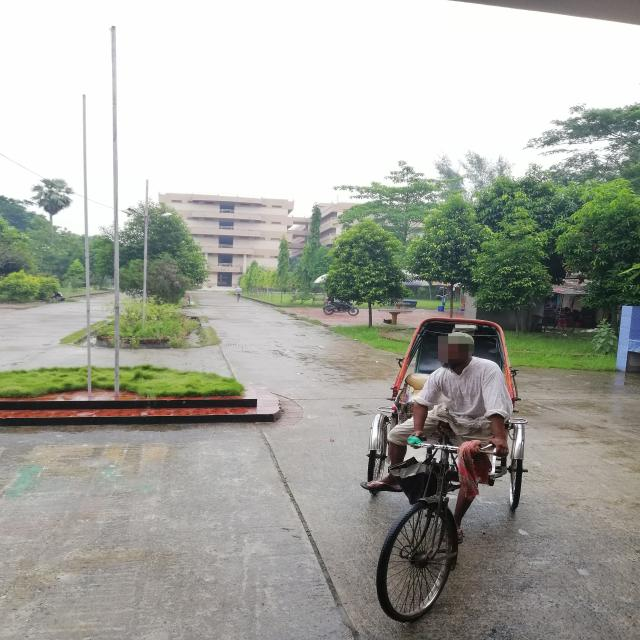Rickshaw: (357, 307, 518, 640)
